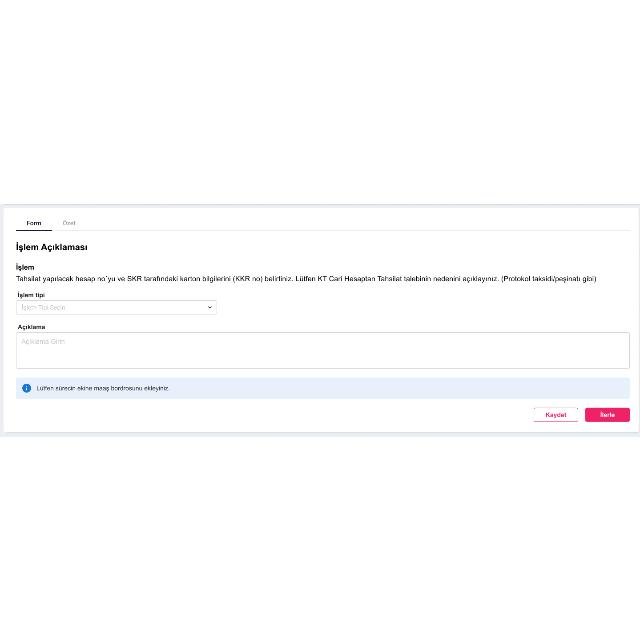QLabel: (15, 273, 597, 283), (36, 384, 170, 392), (14, 240, 88, 252), (16, 290, 46, 298), (16, 322, 46, 330), (16, 261, 34, 271), (23, 218, 42, 226), (546, 412, 566, 418), (62, 218, 76, 226), (600, 411, 614, 417)
VAlert: (15, 376, 629, 398)
VBtn: (534, 406, 578, 422), (586, 406, 630, 422)
VCombobox: (16, 300, 218, 314)
VIcon: (22, 382, 31, 392)
VTabs: (2, 205, 640, 432)
VTextarea: (16, 332, 630, 368)
